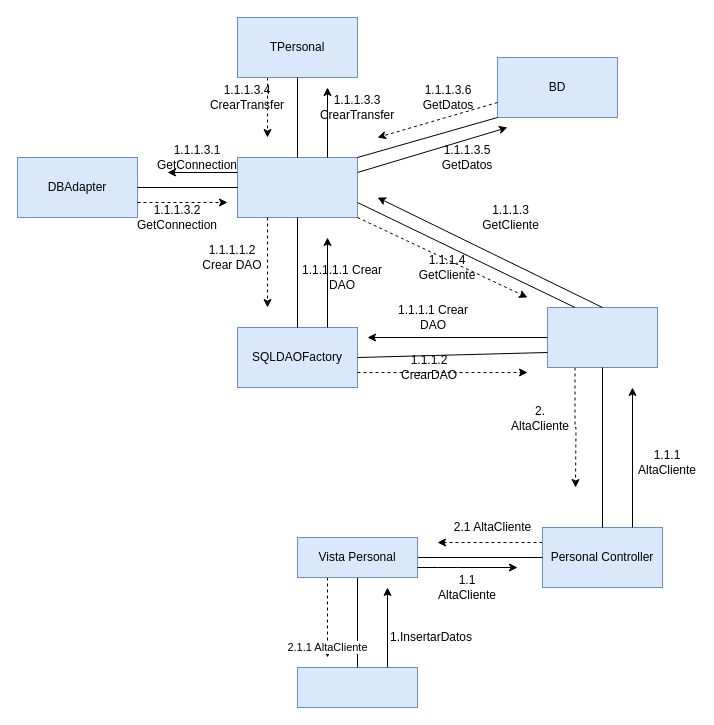
Image size: 714x725. Some labels were removed from this diagram. Each missing label, with the centre of its shape:
Modelo: (x=602, y=337)
SQLPersonalDAO: (x=297, y=187)
Usuario: (x=357, y=687)
